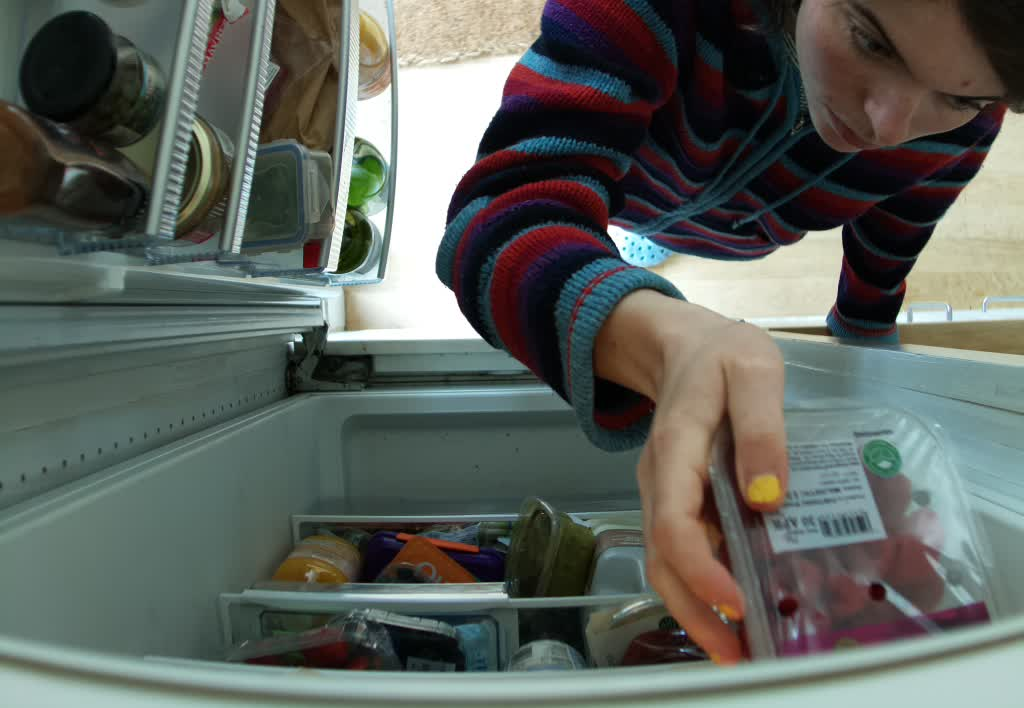soft-fruit: (715, 408, 1003, 659)
